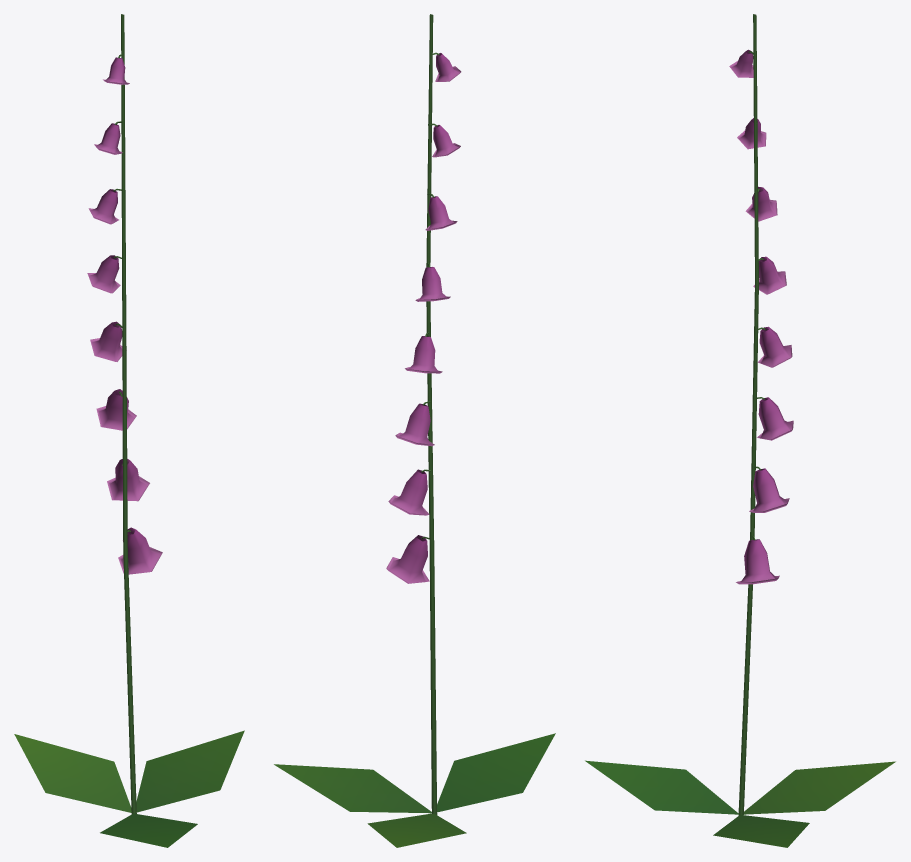
Rendered from flower-foxglove-a.lod1.glb.
3 renders of one model, left to right at view 1: azimuth 30°, elevation 25°; view 2: azimuth 150°, elevation 25°; view 3: azimuth 270°, elevation 25°, orthographic.
Visible parts, largest first — view 1: flower-foxglove-a.lod1; view 2: flower-foxglove-a.lod1; view 3: flower-foxglove-a.lod1.
Part boxes in pixels (left/top/right/bottom): flower-foxglove-a.lod1: left=14, top=14, right=244, bottom=847; flower-foxglove-a.lod1: left=274, top=14, right=555, bottom=847; flower-foxglove-a.lod1: left=585, top=14, right=895, bottom=847.
Size of the model in its own units: 0.291 by 1.13 by 0.3992.
